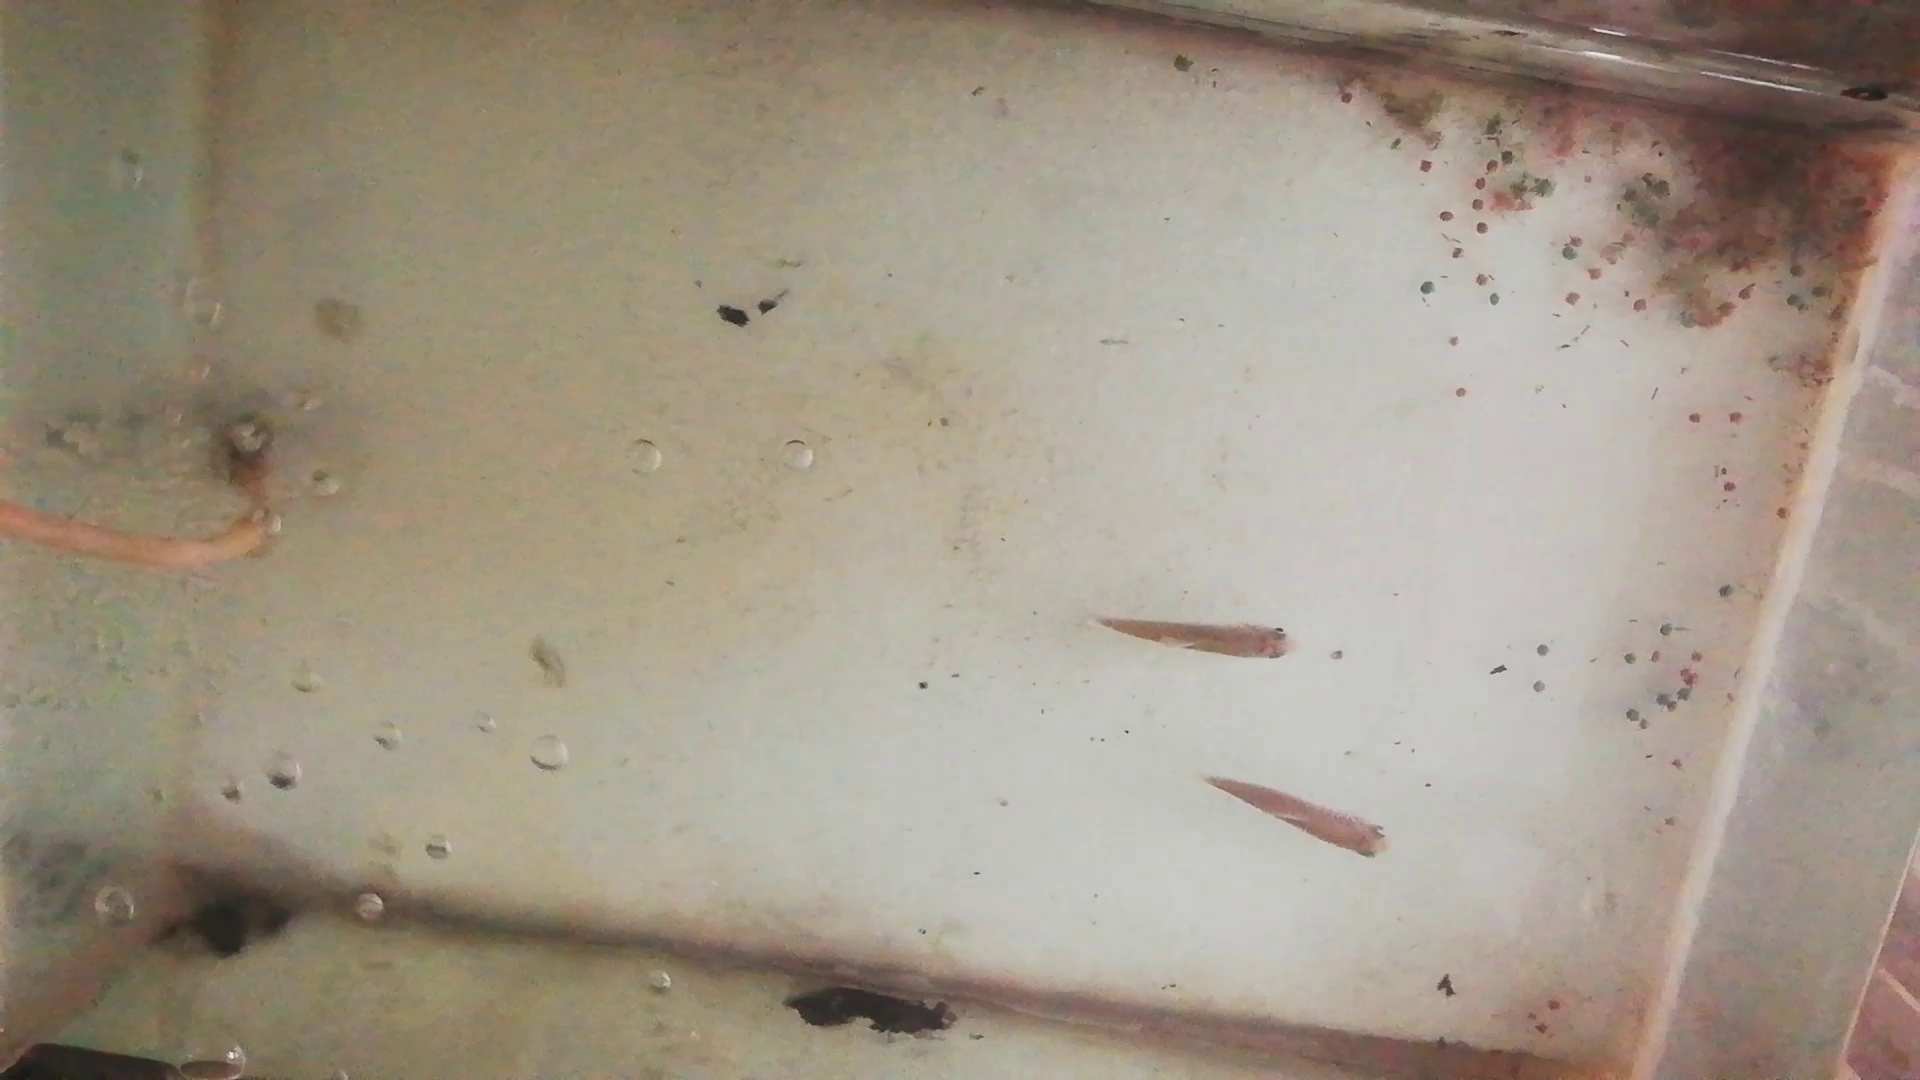fish: (1201, 765, 1398, 858), (1102, 615, 1299, 669)
